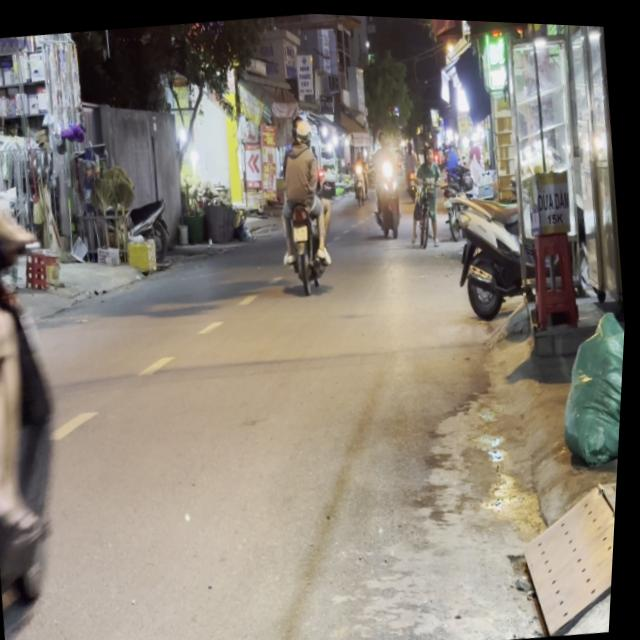licenseplate: (0, 32, 110, 640)
